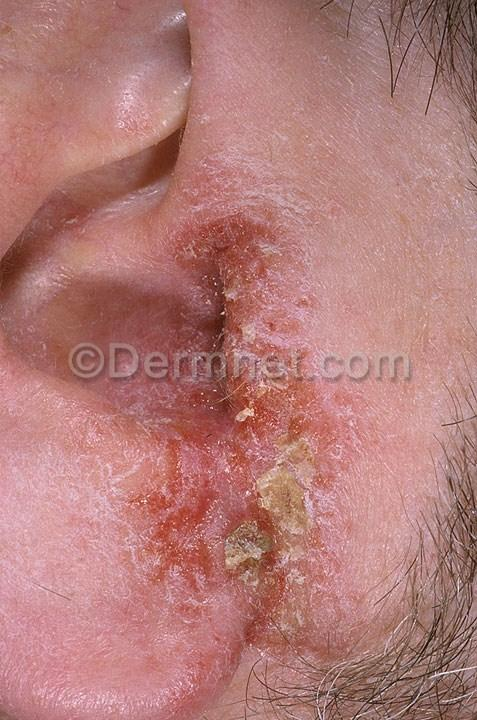Eczema: (131, 382, 389, 664), (149, 185, 335, 347)
